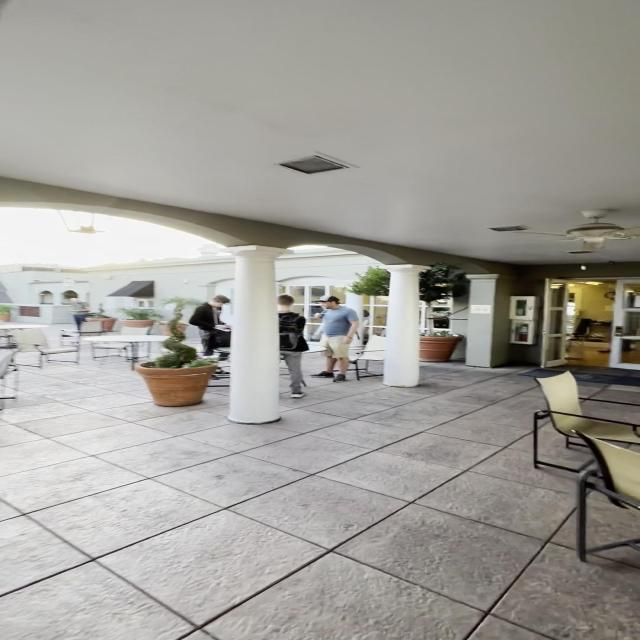NO-Mask: (325, 300, 340, 310), (212, 298, 229, 306)
